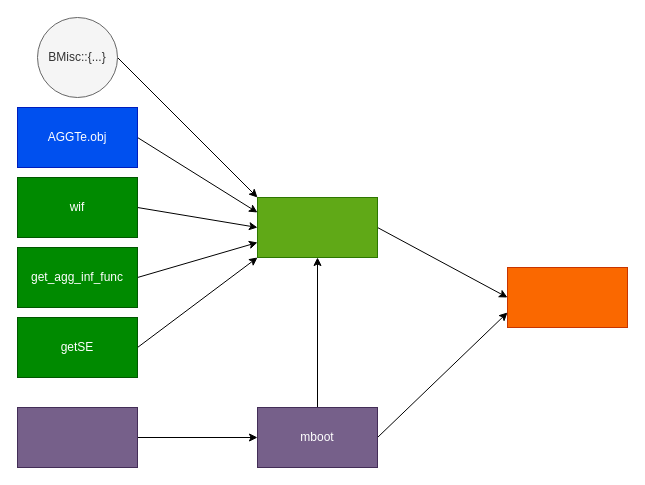
The diagram is 645 pixels wide and 485 high, and some of its shapes have lost their labels. The centre of each missing label's shape, as x and y in pixels:
aggte: the point at 567,297
compute_aggte: the point at 317,227
sum_multiplier_ bootstrap: the point at 77,437
